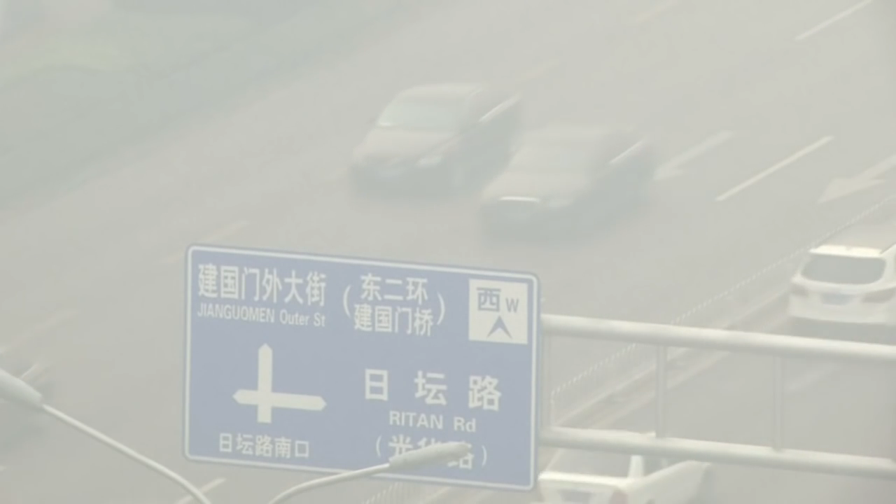car: (474, 121, 658, 249), (345, 79, 527, 200), (778, 217, 896, 357), (525, 427, 716, 504)
